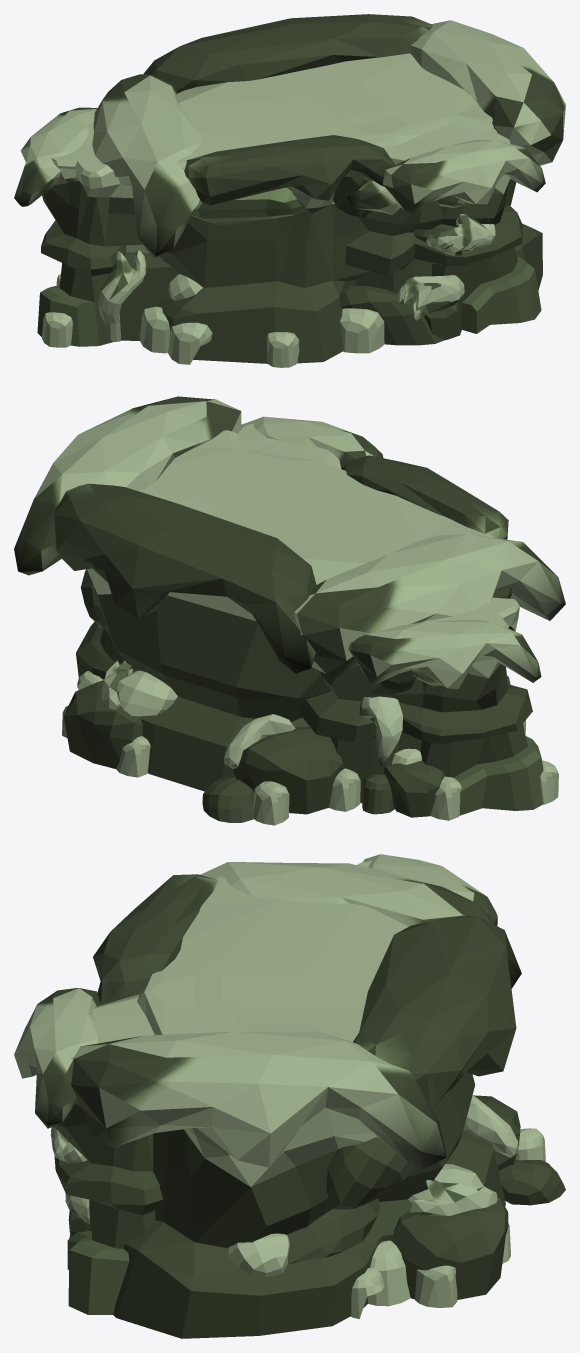
The model's file is EA_Swamp_Island_Small_05a.glb.
3 views of the same model, one above another, from view 1: azimuth 30°, elevation 25°; view 2: azimuth 150°, elevation 25°; view 3: azimuth 270°, elevation 25° (orthographic). The views are drawn at different scales.
Parts seen in each view (by area): view 1: EA_Swamp_Island_Small_05a; view 2: EA_Swamp_Island_Small_05a; view 3: EA_Swamp_Island_Small_05a.
Part boxes in pixels (box(x1,y1,x2,y2)): EA_Swamp_Island_Small_05a: box(14, 14, 565, 367); EA_Swamp_Island_Small_05a: box(14, 396, 565, 825); EA_Swamp_Island_Small_05a: box(14, 854, 565, 1338).
Size of the model in its own units: 15.09 by 6.37 by 11.62.
Materials: 1 (1 with a texture image).
